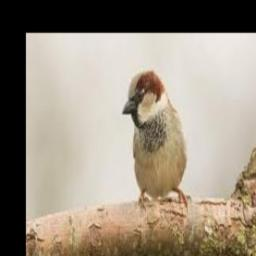Sparrow: (122, 70, 190, 213)
